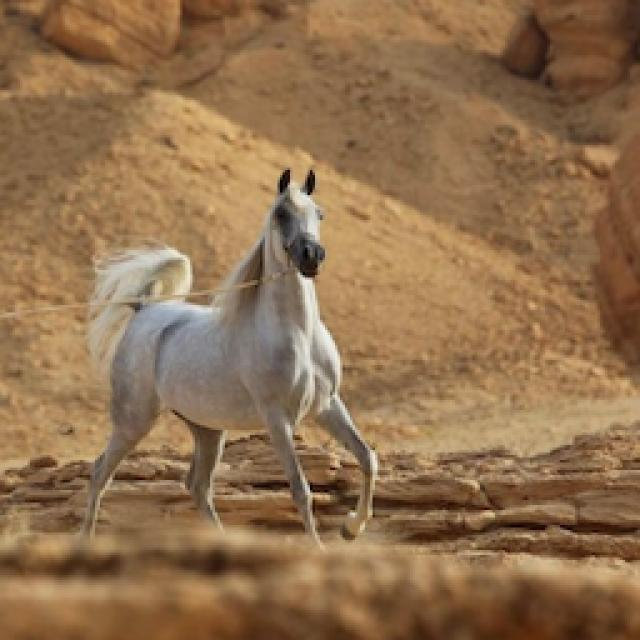Horse: (70, 160, 388, 552)
